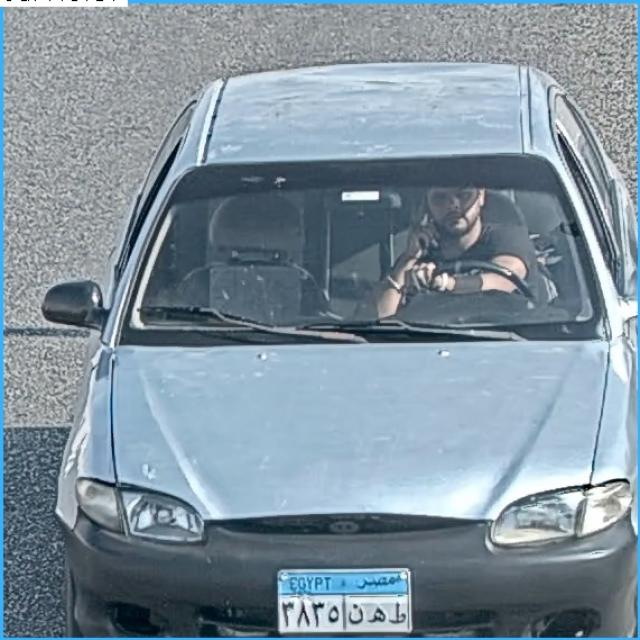windshield: (117, 169, 598, 333)
